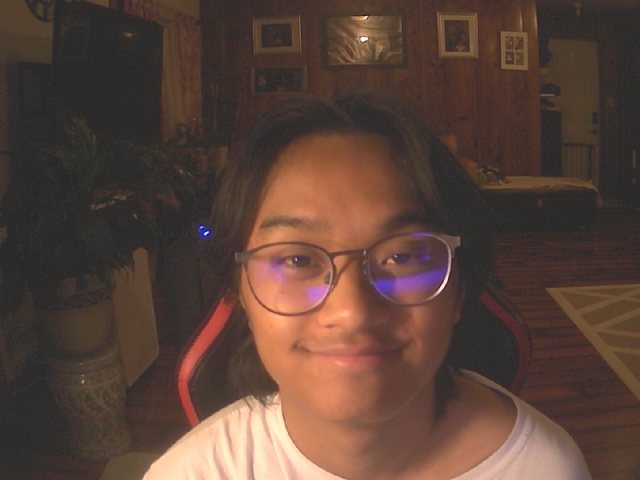happy: (196, 89, 500, 429)
